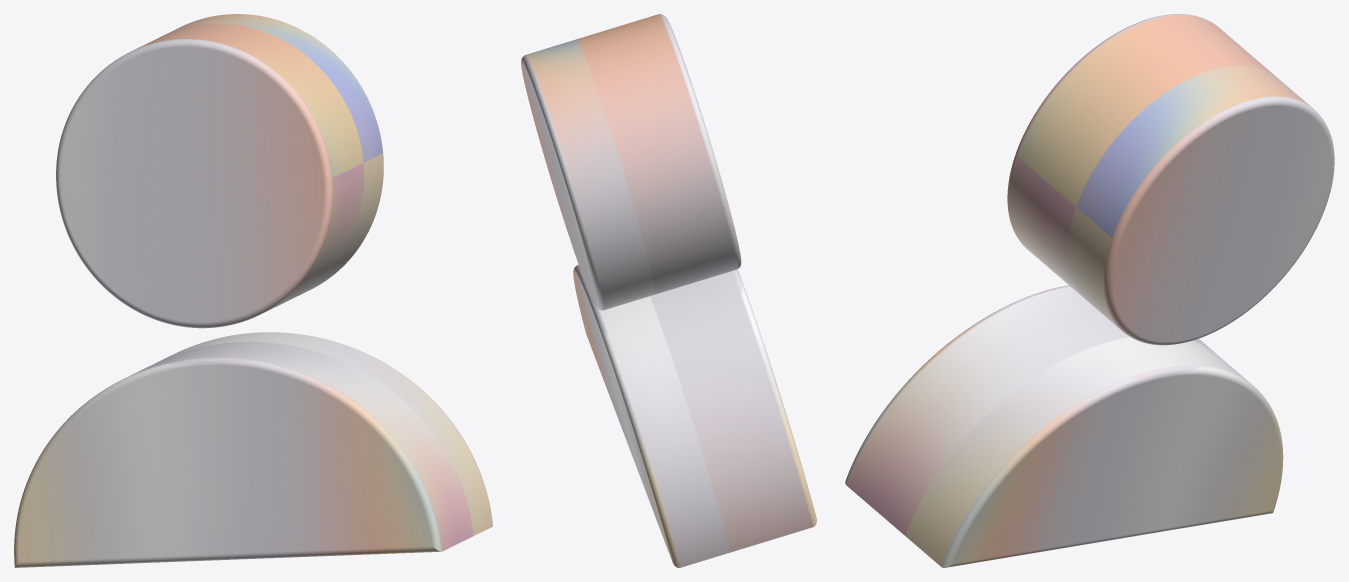
The picture shows the model from 3 angles, left to right: view 1: azimuth 30°, elevation 25°; view 2: azimuth 150°, elevation 25°; view 3: azimuth 270°, elevation 25°; orthographic projection. The views are drawn at different scales.
Visible parts, largest first — view 1: Выдавливание.12; view 2: Выдавливание.12; view 3: Выдавливание.12.
Part boxes in pixels (box(x1,y1,x2,y2)): Выдавливание.12: box(14, 14, 492, 567); Выдавливание.12: box(521, 14, 816, 567); Выдавливание.12: box(845, 14, 1334, 567).
Bounding box in the file's own units: 1.92 × 2.66 × 2.23.
1 material, 1 textured.
